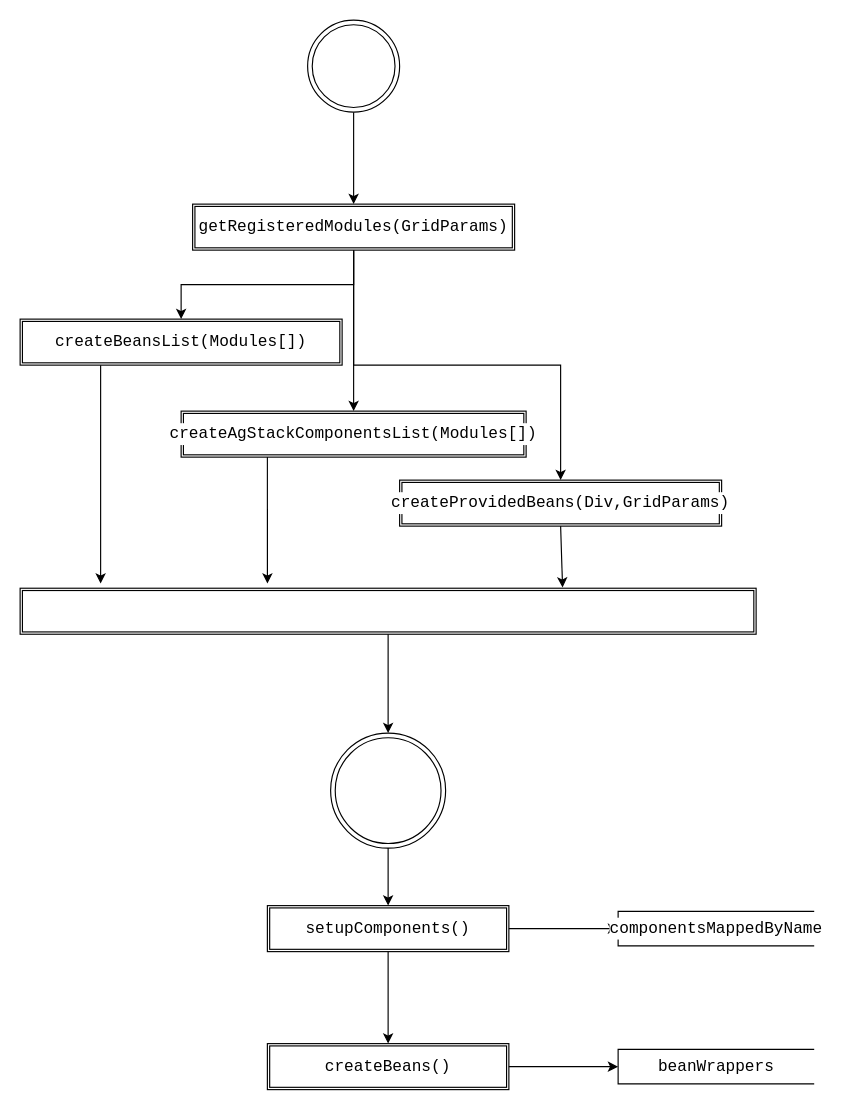
The diagram is 842 pixels wide and 1110 high, and some of its shapes have lost their labels. Here are the shapes that lost their labels. From the top down, the centre of each, then its label:
the point at 353,65: new GRID
the point at 387,610: ContextParams{providedBeanInstances,beanClasses,components}
the point at 387,790: new Context
